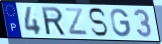3: (133, 9, 153, 40)
4: (23, 6, 43, 36)
G: (109, 8, 132, 39)
R: (40, 6, 67, 36)
S: (87, 7, 109, 38)
Z: (64, 7, 90, 37)
